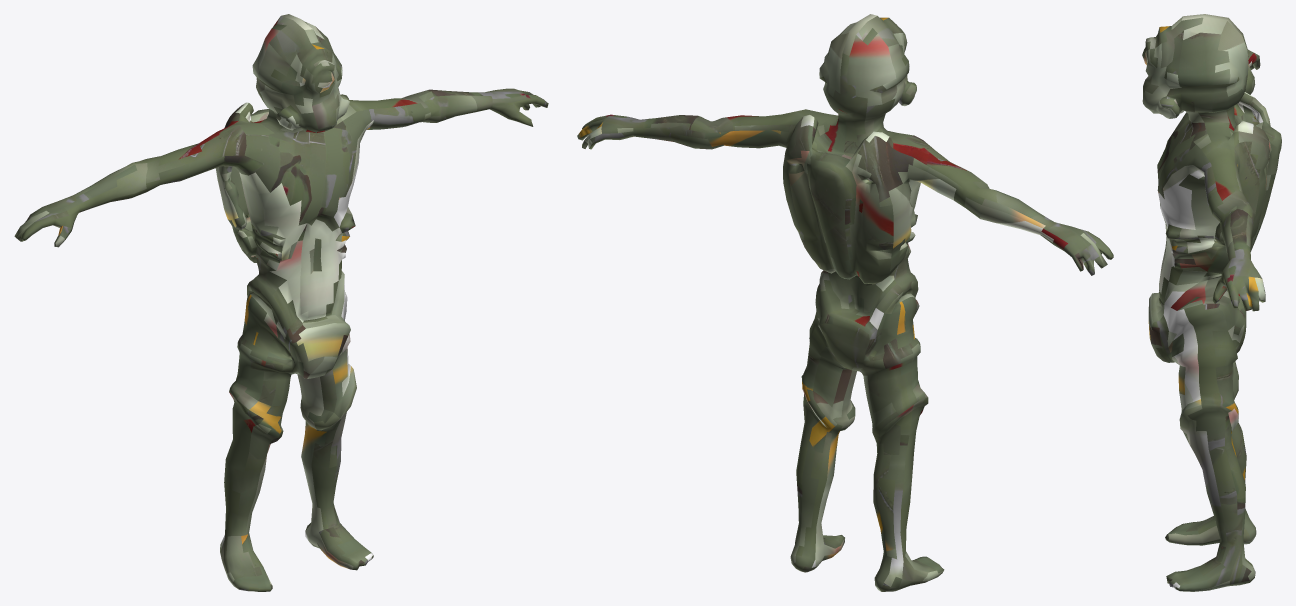
The model's file is personaje1.fbx.
The picture shows the model from 3 angles, left to right: view 1: azimuth 30°, elevation 25°; view 2: azimuth 150°, elevation 25°; view 3: azimuth 270°, elevation 25°; orthographic projection.
Visible parts, largest first — view 1: Personaje_Malla; view 2: Personaje_Malla; view 3: Personaje_Malla.
Boxes of the visible parts, left/top/right/bottom form: Personaje_Malla: left=14, top=14, right=548, bottom=591; Personaje_Malla: left=577, top=14, right=1113, bottom=591; Personaje_Malla: left=1142, top=14, right=1281, bottom=591.
Bounding box in the file's own units: 99.72 × 98.84 × 22.77.
